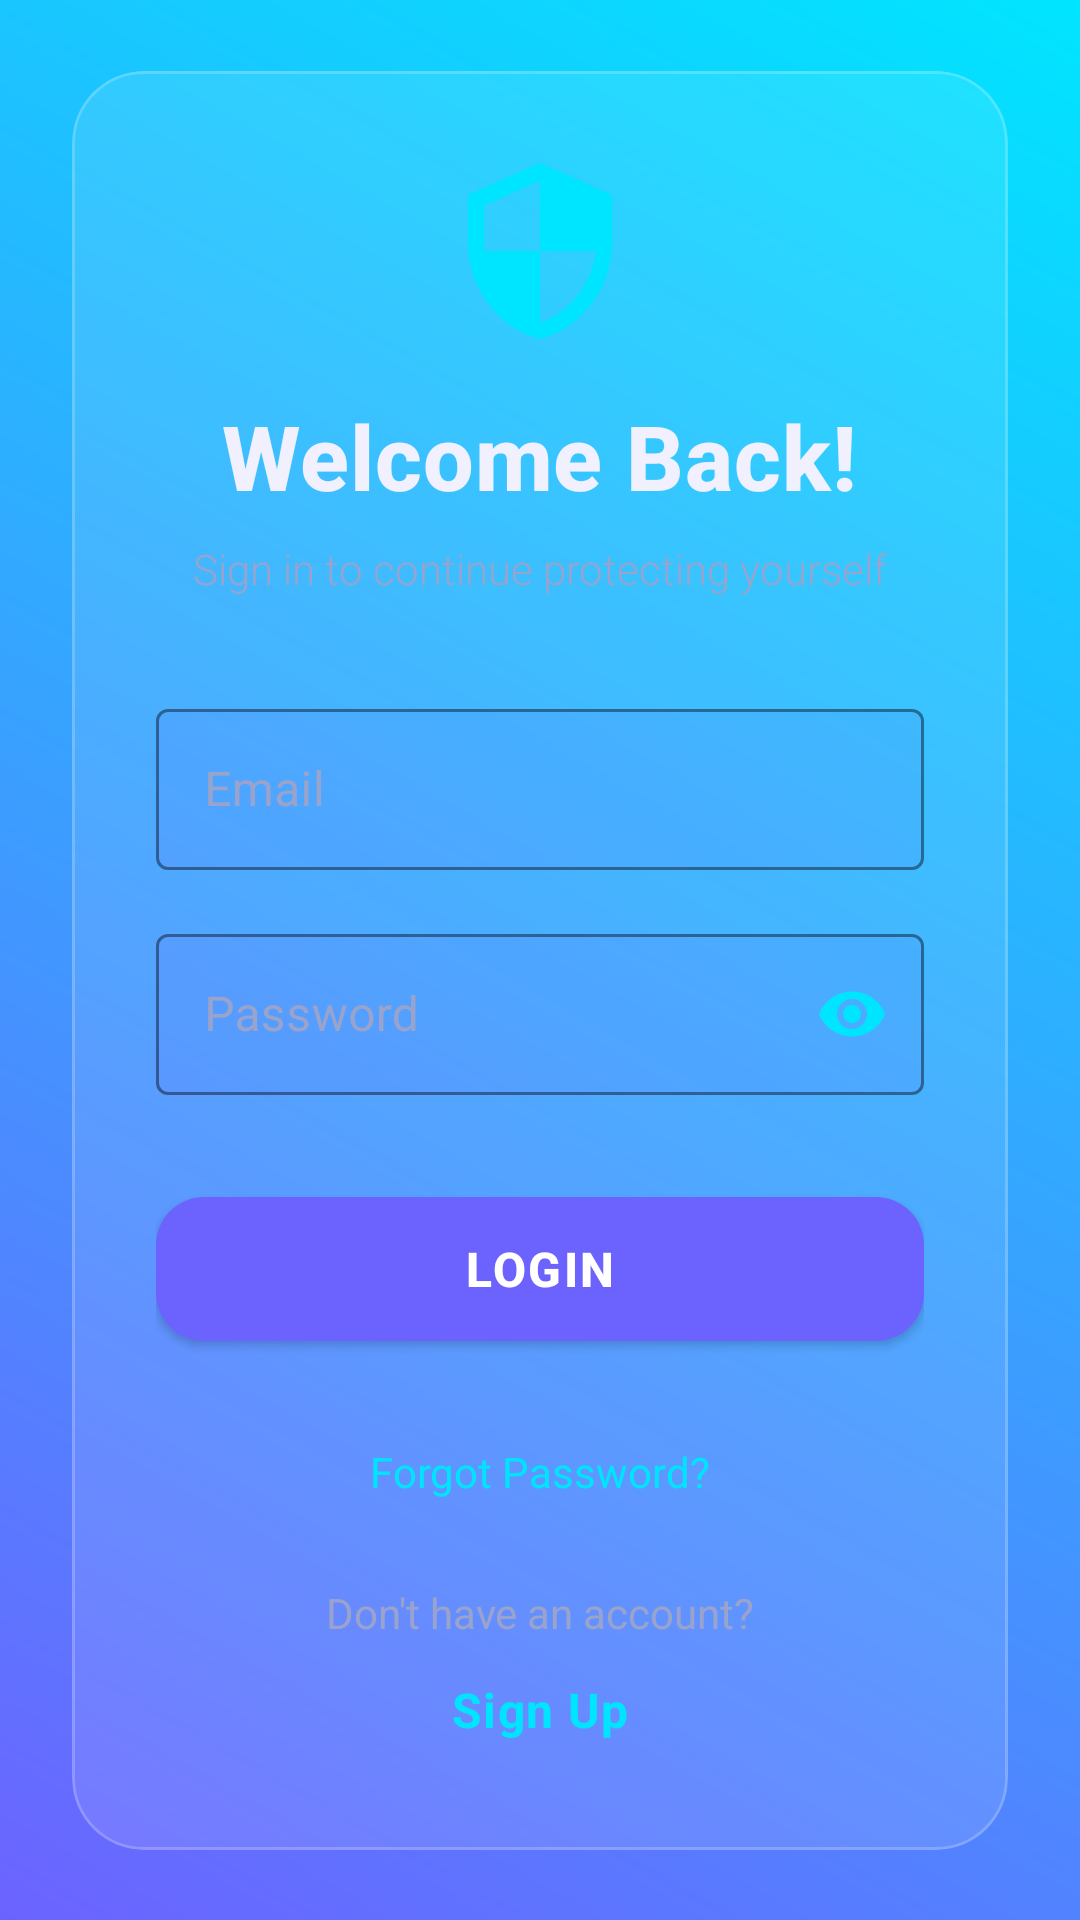

Screen size 1080 × 1920. Icon name, then its center in pixels as point (x, y):
security: point (540, 251)
